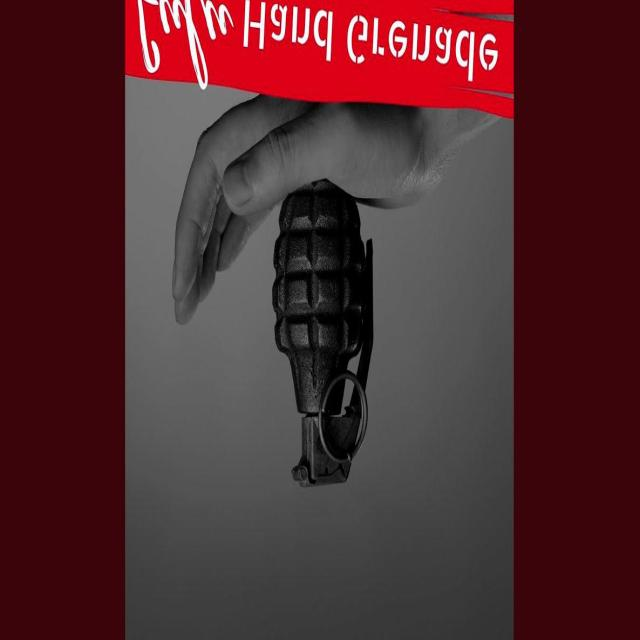grenade: (275, 179, 376, 490)
